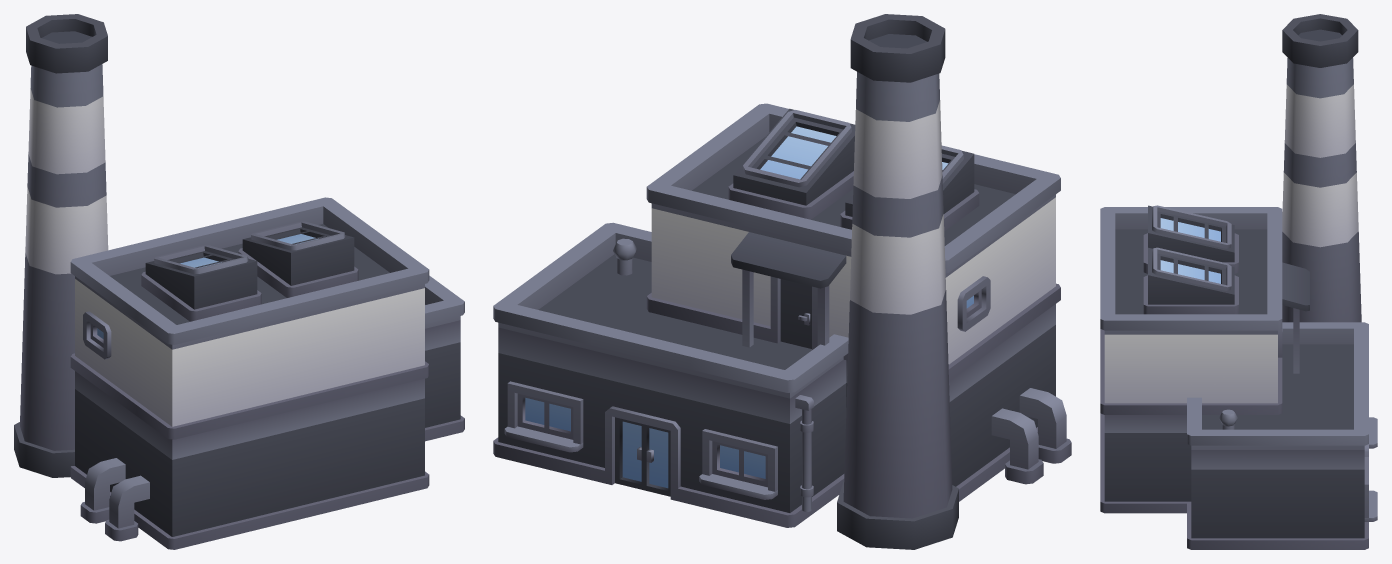
Rendered from factory-f.glb.
The picture shows the model from 3 angles, left to right: view 1: azimuth 30°, elevation 25°; view 2: azimuth 150°, elevation 25°; view 3: azimuth 270°, elevation 25°; orthographic projection. The views are drawn at different scales.
Visible parts, largest first — view 1: building-f; view 2: building-f; view 3: building-f.
Part boxes in pixels (x1=…): building-f: x1=14, y1=14, x2=464, y2=549; building-f: x1=493, y1=14, x2=1071, y2=549; building-f: x1=1100, y1=14, x2=1377, y2=549.
Bounding box in the file's own units: 1 × 1.08 × 0.7151.
Materials: 1 (1 with a texture image).
